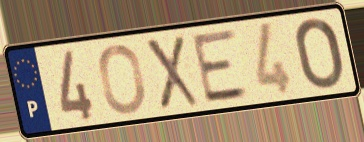4: (253, 19, 294, 99), (57, 47, 96, 123)
E: (189, 27, 253, 107)
O: (292, 15, 346, 92), (96, 42, 148, 116)
X: (142, 33, 202, 112)
